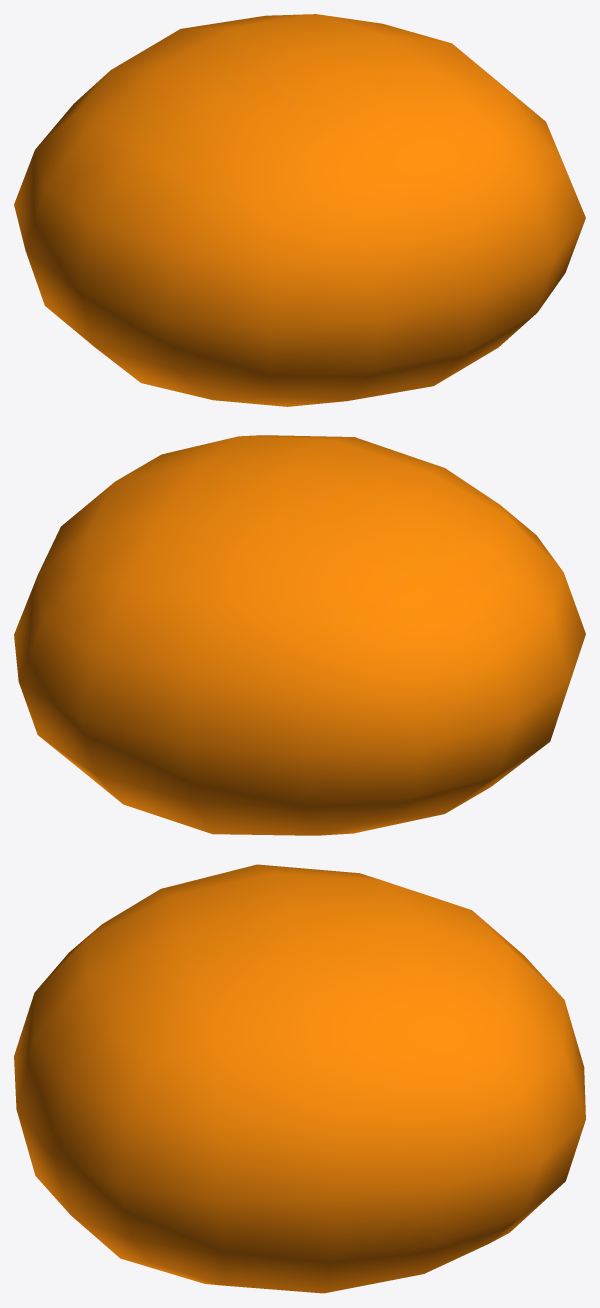
The model's file is candy3.fbx.
3 renders of one model, top to bottom at view 1: azimuth 30°, elevation 25°; view 2: azimuth 150°, elevation 25°; view 3: azimuth 270°, elevation 25°, orthographic. The views are drawn at different scales.
Parts seen in each view (by area): view 1: pCube33; view 2: pCube33; view 3: pCube33.
Part boxes in pixels (bbox=[...]): pCube33: bbox=[14, 14, 585, 406]; pCube33: bbox=[14, 435, 585, 835]; pCube33: bbox=[14, 864, 585, 1293].
Size of the model in its own units: 1.22 by 0.7771 by 1.18.
